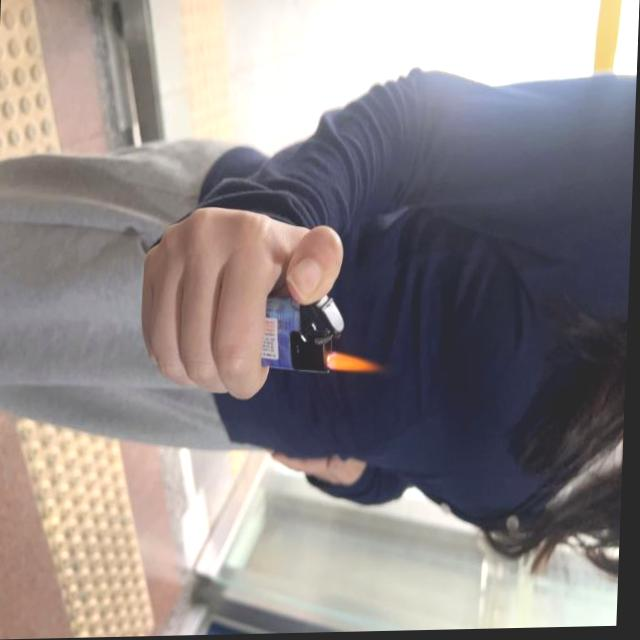helmet: (331, 352, 376, 376)
